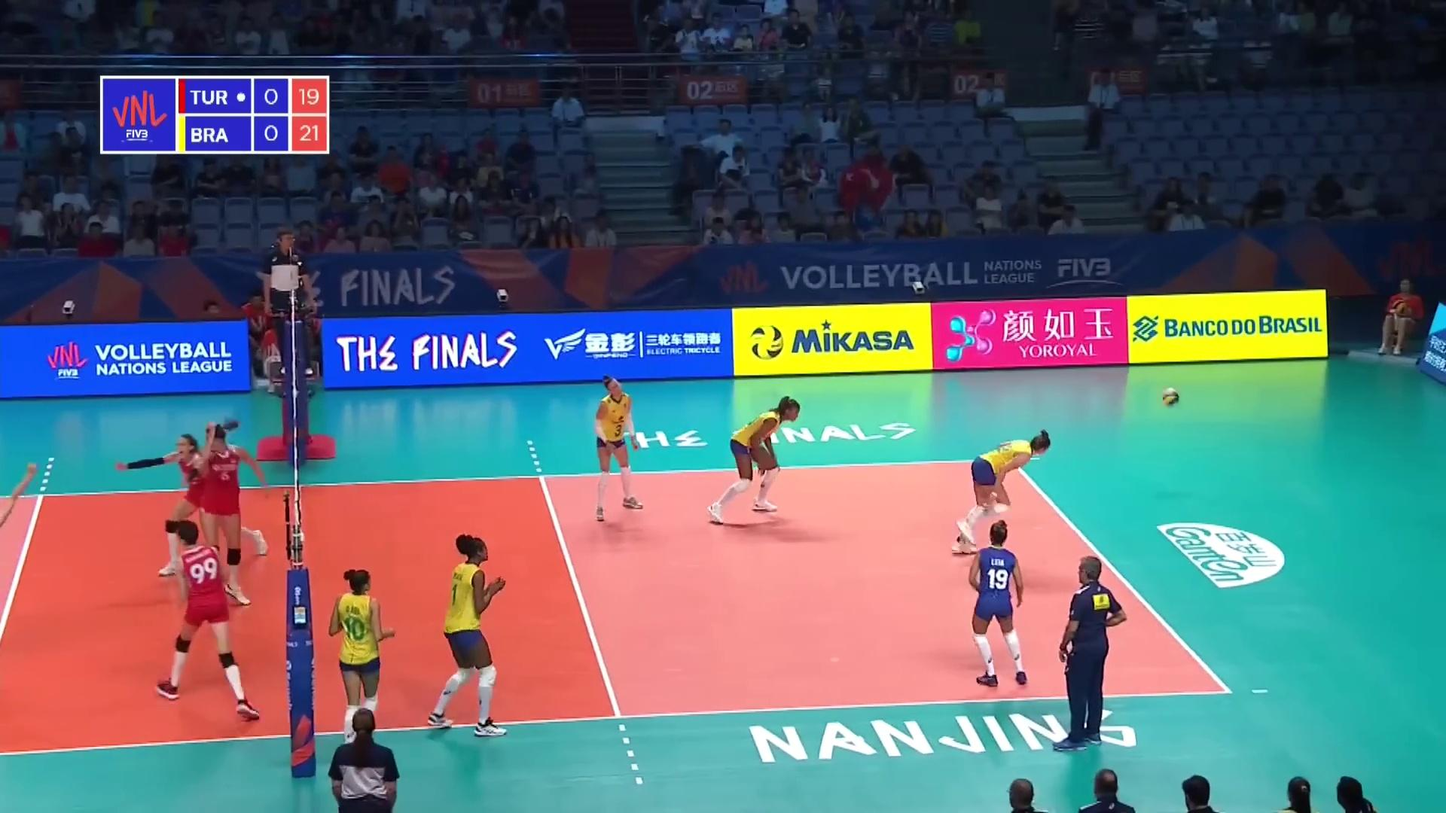player: (159, 522, 260, 721), (134, 434, 269, 571), (427, 538, 514, 735), (185, 420, 253, 605), (705, 399, 804, 524), (954, 429, 1049, 554), (331, 566, 391, 763), (972, 522, 1026, 685), (593, 378, 647, 526)
refree: (261, 230, 316, 377), (329, 708, 402, 813)
